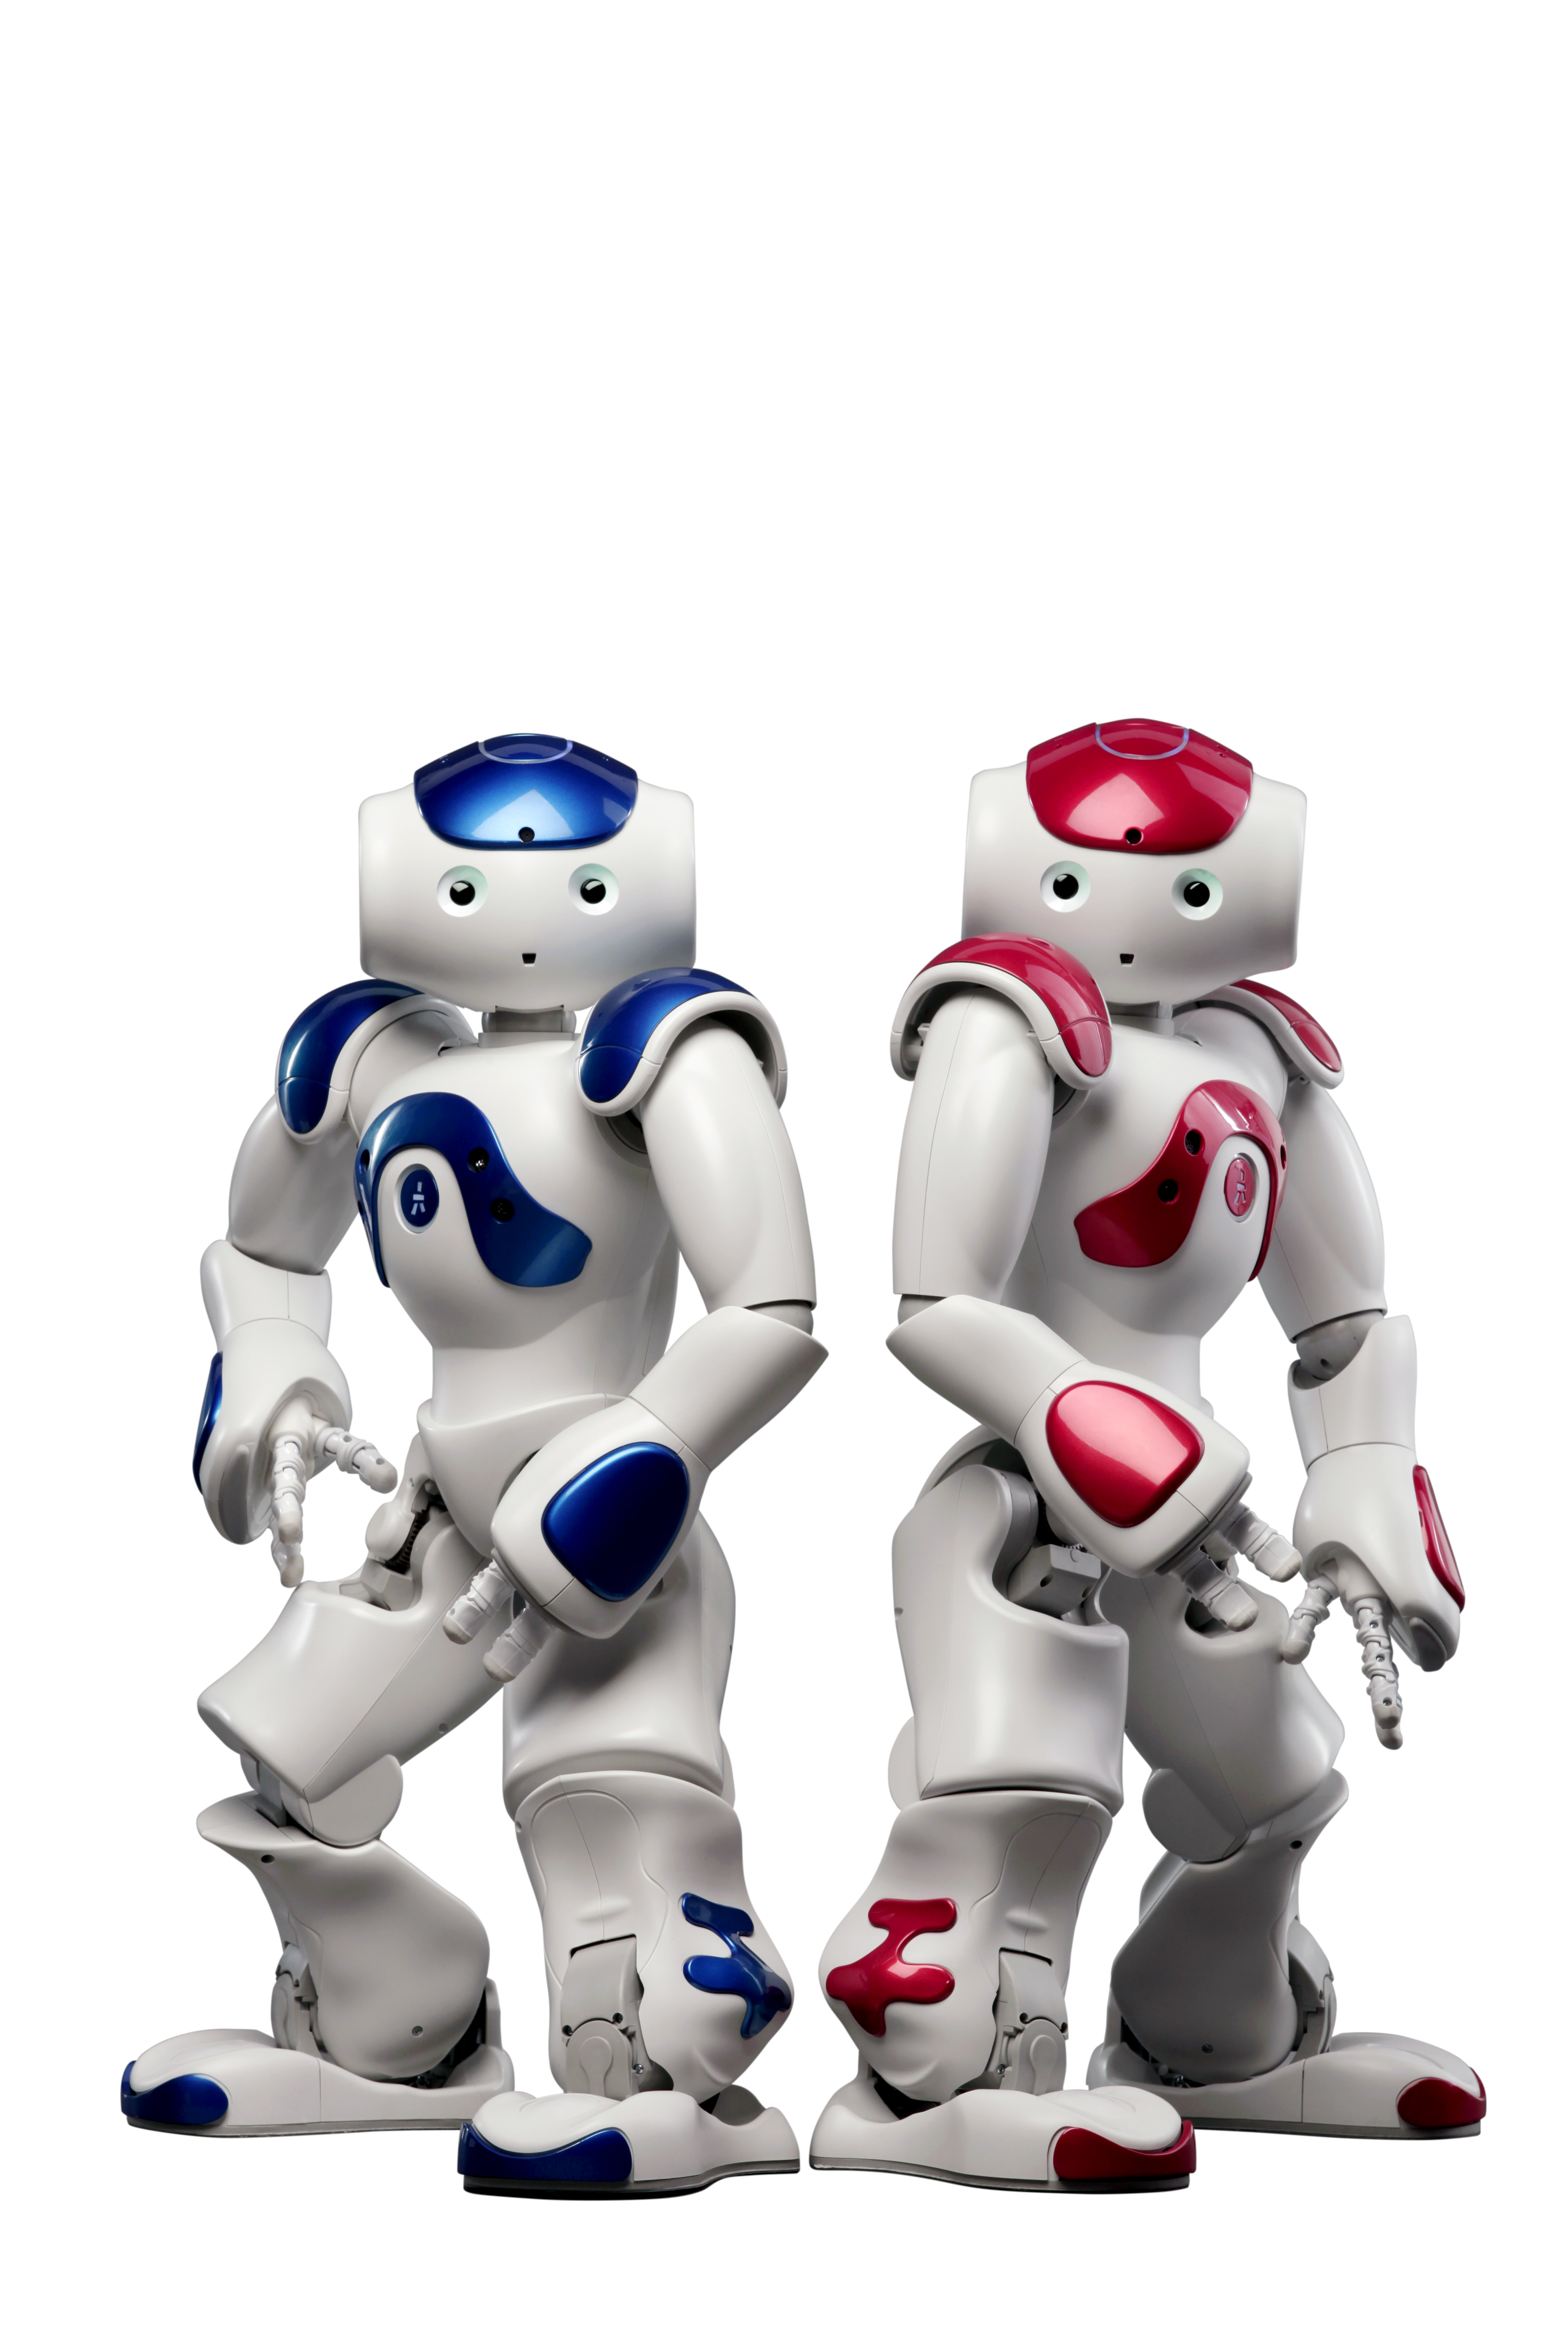nao: (75, 714, 807, 2221), (807, 714, 1516, 2233)
